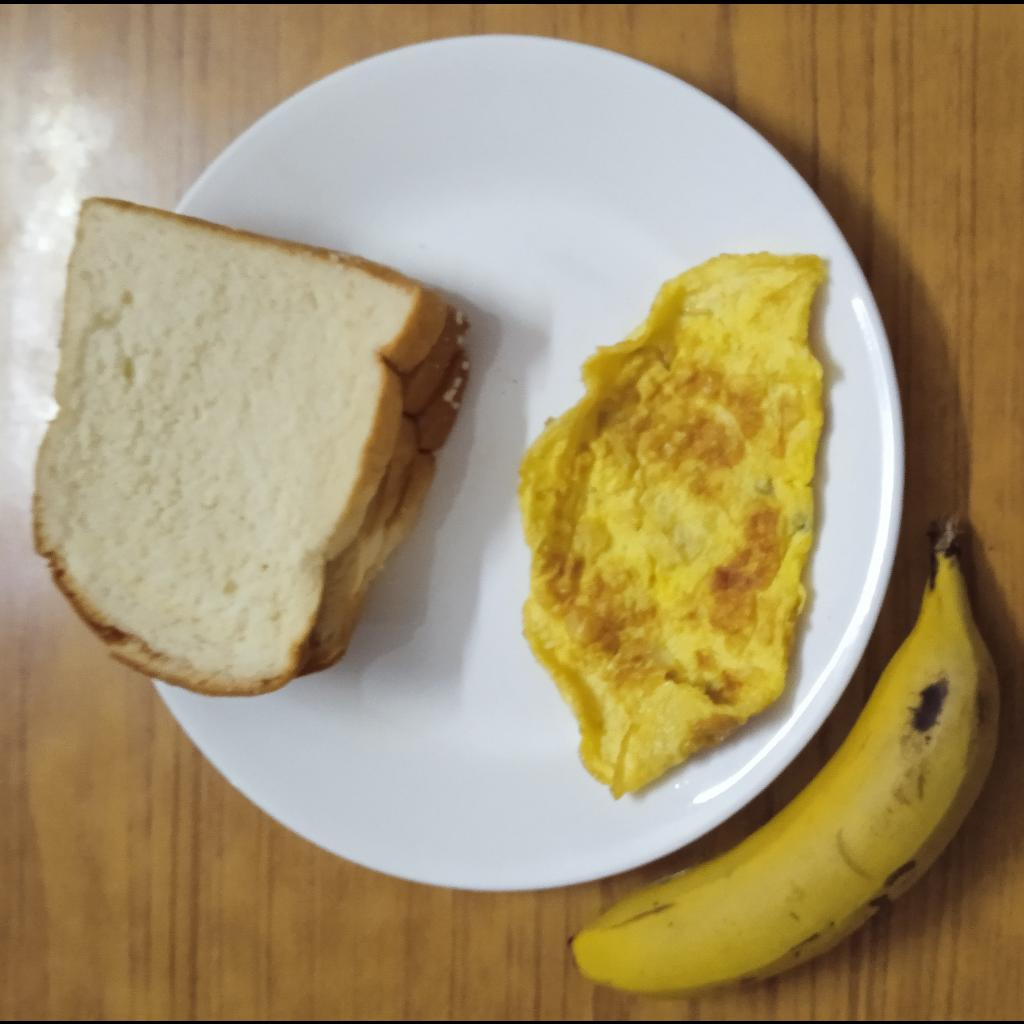banana: (569, 512, 1003, 998)
bread: (31, 193, 470, 698)
egg-poached: (514, 251, 828, 797)
